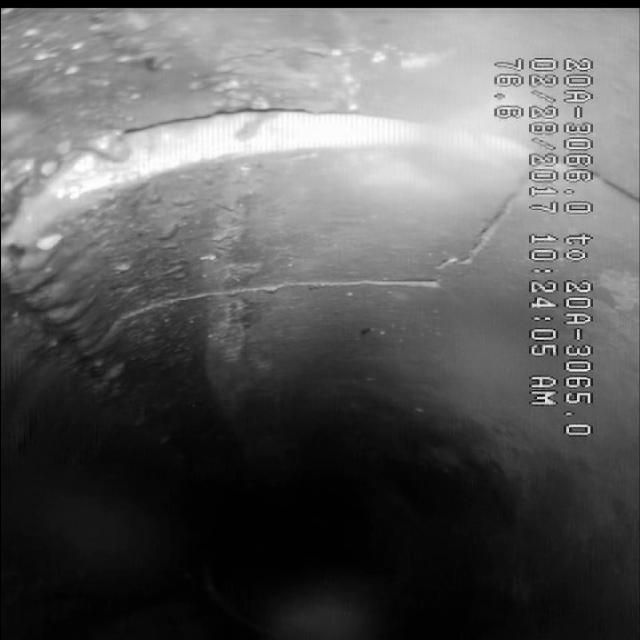Crack: (161, 222, 508, 342)
